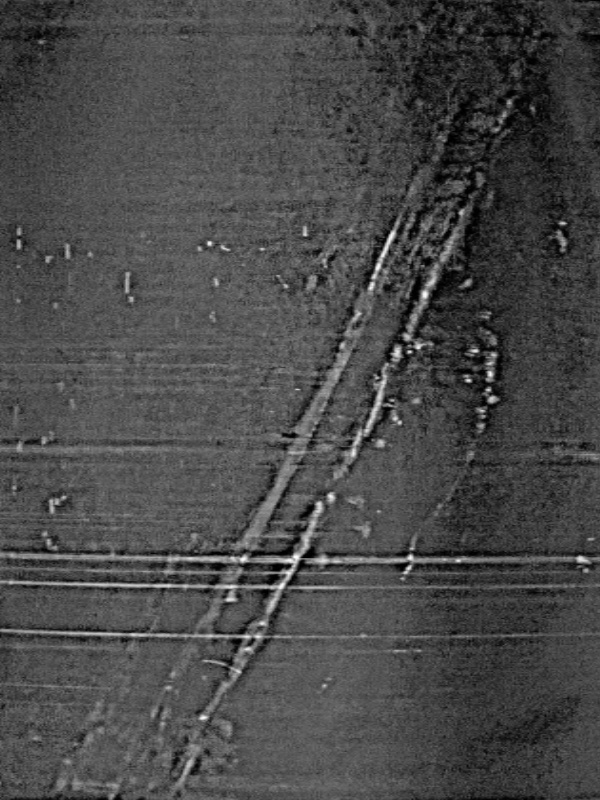splice_vulcanized: (68, 3, 532, 788)
